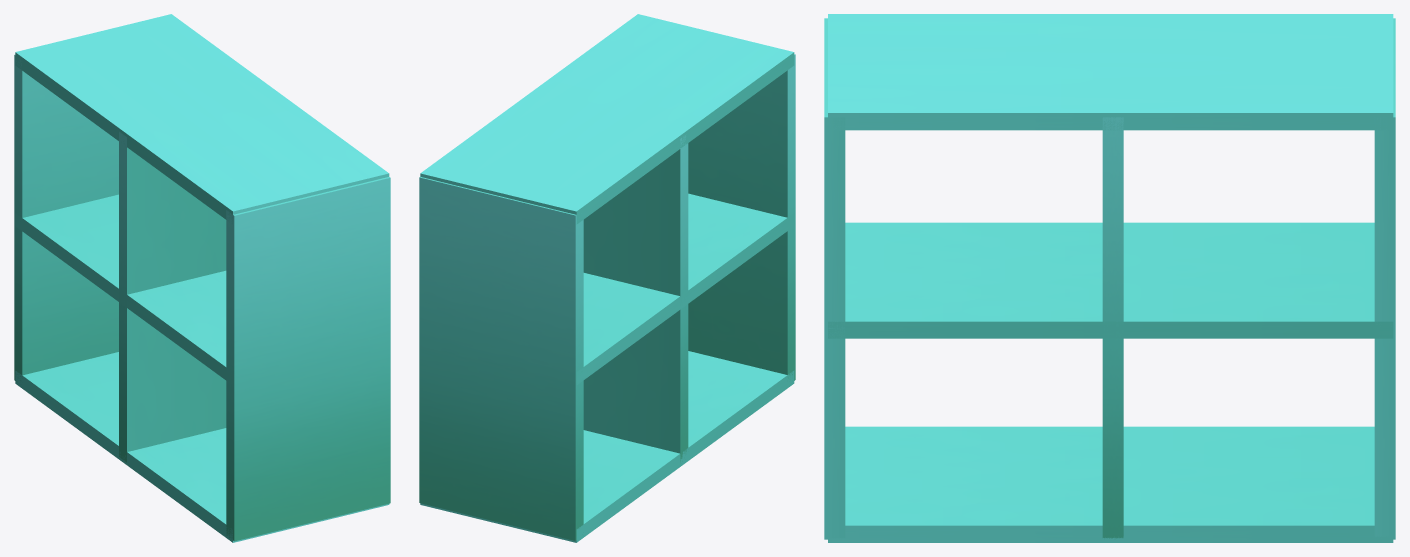
The model's file is Cabnit2.glb.
The picture shows the model from 3 angles, left to right: view 1: azimuth 30°, elevation 25°; view 2: azimuth 150°, elevation 25°; view 3: azimuth 270°, elevation 25°; orthographic projection. The views are drawn at different scales.
Parts seen in each view (by area): view 1: BoxCabnit3; view 2: BoxCabnit3; view 3: BoxCabnit3.
Part boxes in pixels (x1,y1,x2,y2): BoxCabnit3: (14, 14, 390, 542); BoxCabnit3: (419, 14, 795, 542); BoxCabnit3: (824, 14, 1395, 542).
Bounding box in the file's own units: 0.3306 × 0.67 × 0.8064.
1 material, 1 textured.
